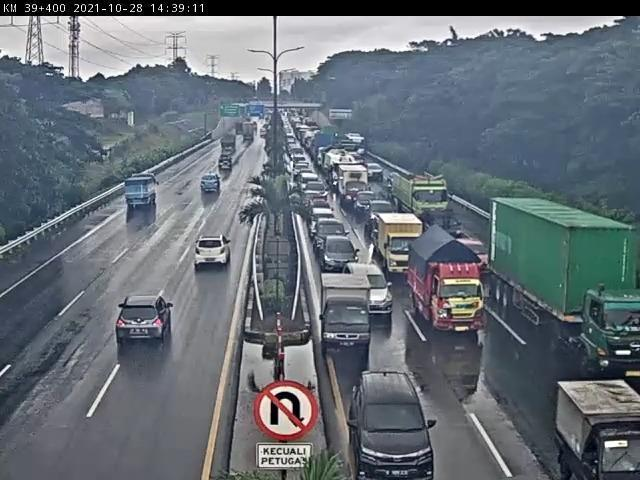car: (336, 365, 446, 478), (99, 280, 189, 359), (185, 223, 246, 281), (345, 257, 395, 319), (317, 232, 362, 275), (455, 233, 492, 278), (311, 217, 352, 257), (198, 170, 226, 197)
truck: (484, 176, 640, 394), (530, 354, 640, 480), (396, 221, 498, 342), (312, 268, 376, 362), (372, 212, 430, 279), (385, 172, 453, 227), (121, 174, 162, 218)
